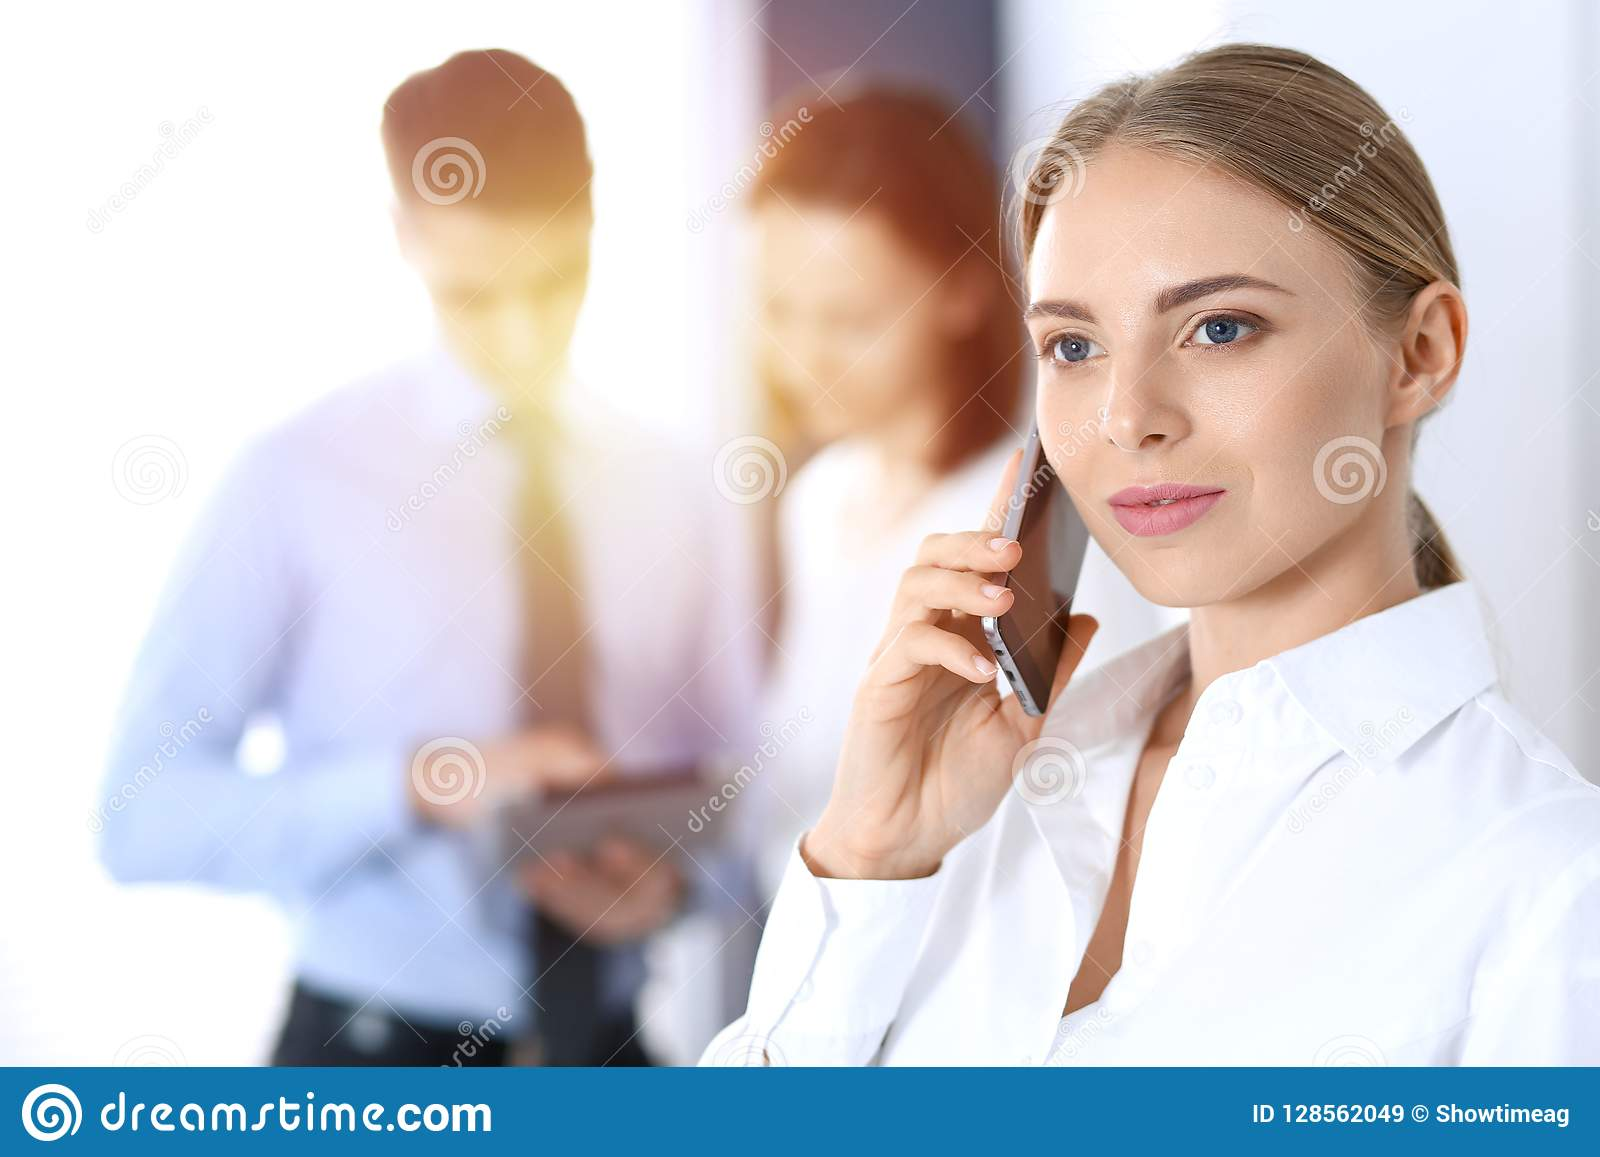phone: (976, 418, 1102, 720)
talk: (834, 258, 1306, 853)
